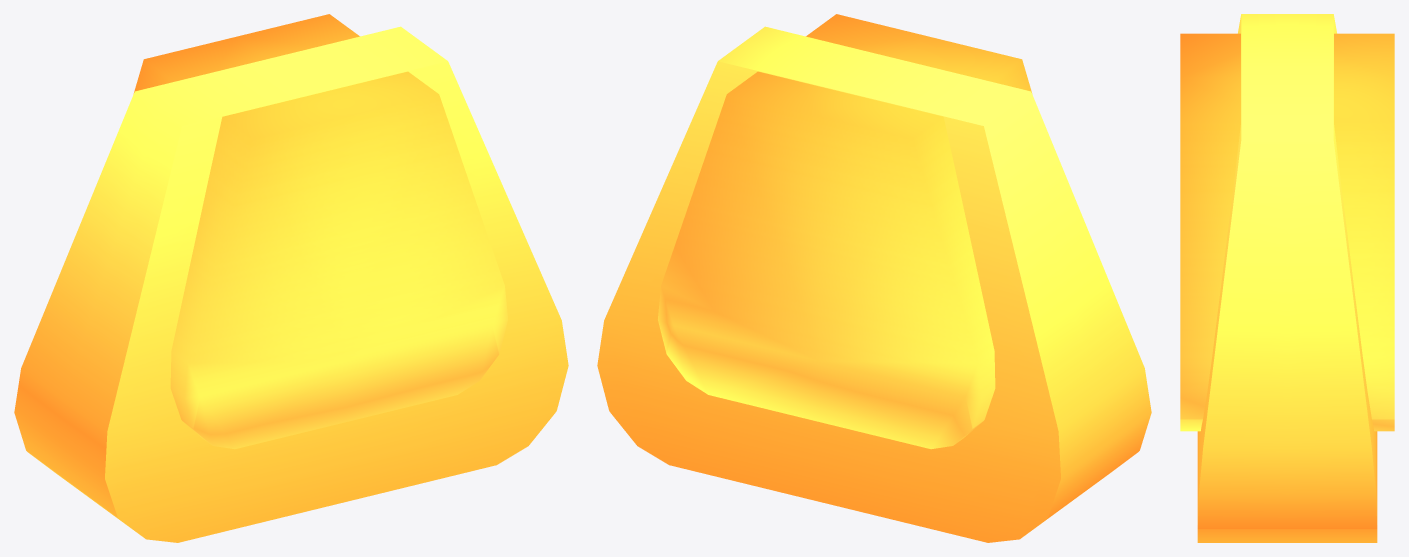
The model's file is gold_pommel_001.glb.
3 renders of one model, left to right at view 1: azimuth 30°, elevation 25°; view 2: azimuth 150°, elevation 25°; view 3: azimuth 270°, elevation 25°, orthographic. The views are drawn at different scales.
Visible parts, largest first — view 1: gold_pommel_001; view 2: gold_pommel_001; view 3: gold_pommel_001.
Boxes of the visible parts, x1,y1,x2,y2 form: gold_pommel_001: (14,14,568,542); gold_pommel_001: (597,14,1151,542); gold_pommel_001: (1180,14,1394,542).
Size of the model in its own units: 2.35 by 1.9 by 0.961.
Materials: 1 (1 with a texture image).
